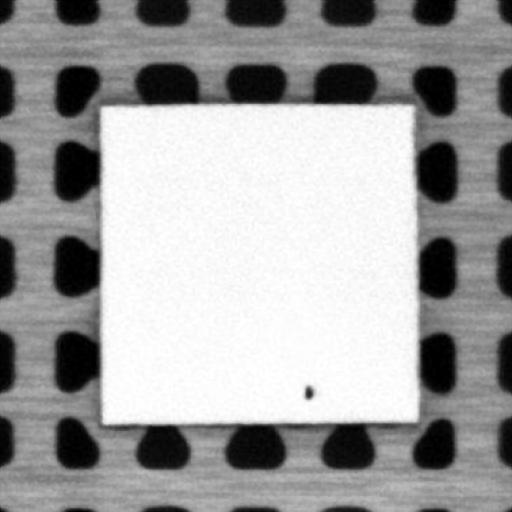DIE_INK: (300, 379, 314, 400)
